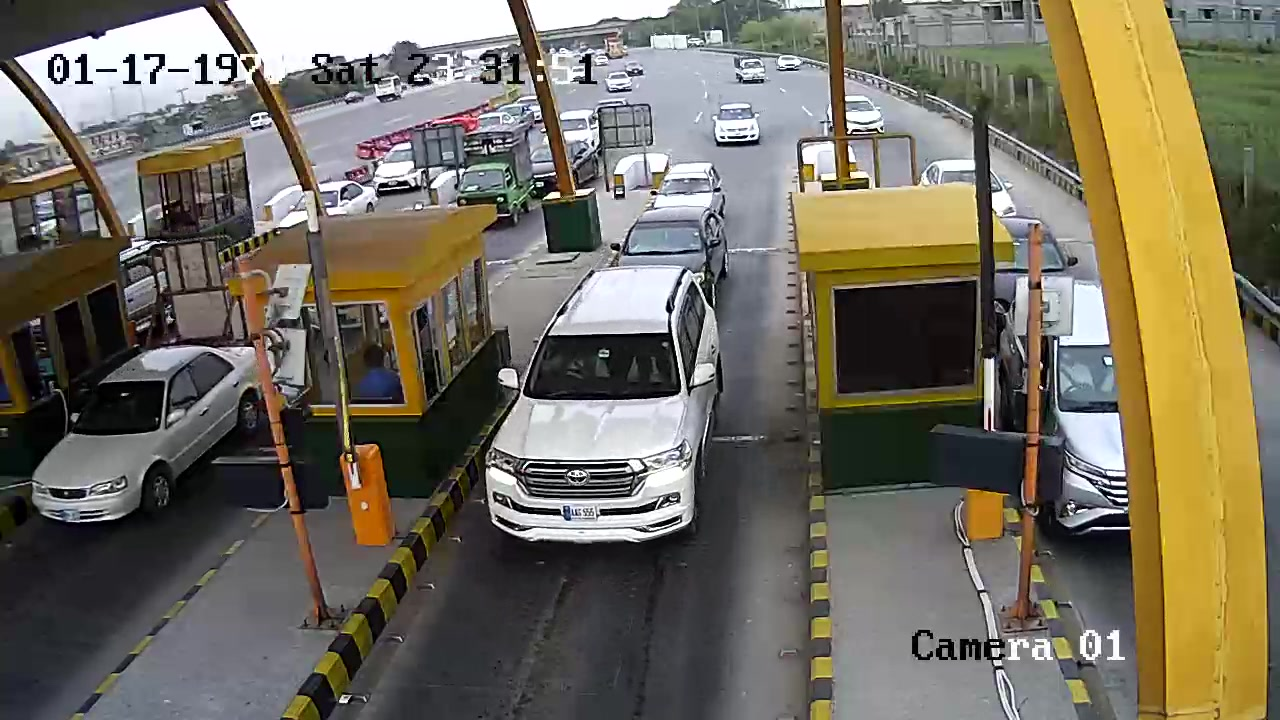F1: (478, 262, 743, 555)
